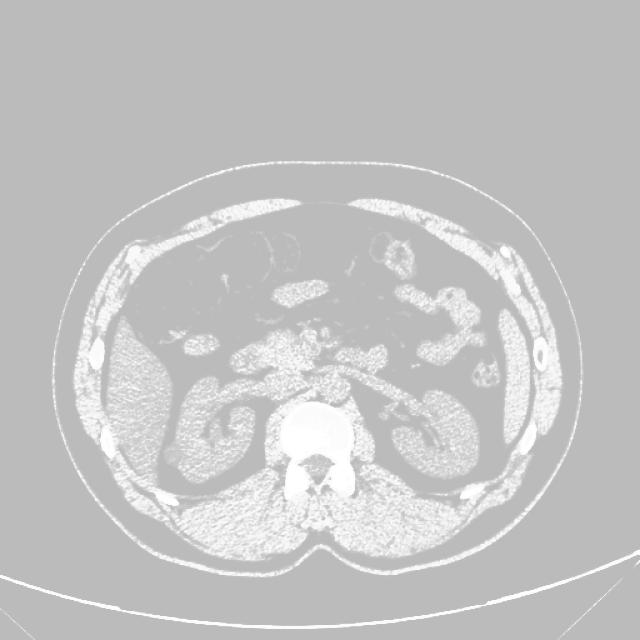cysts: (63, 174, 574, 575)
